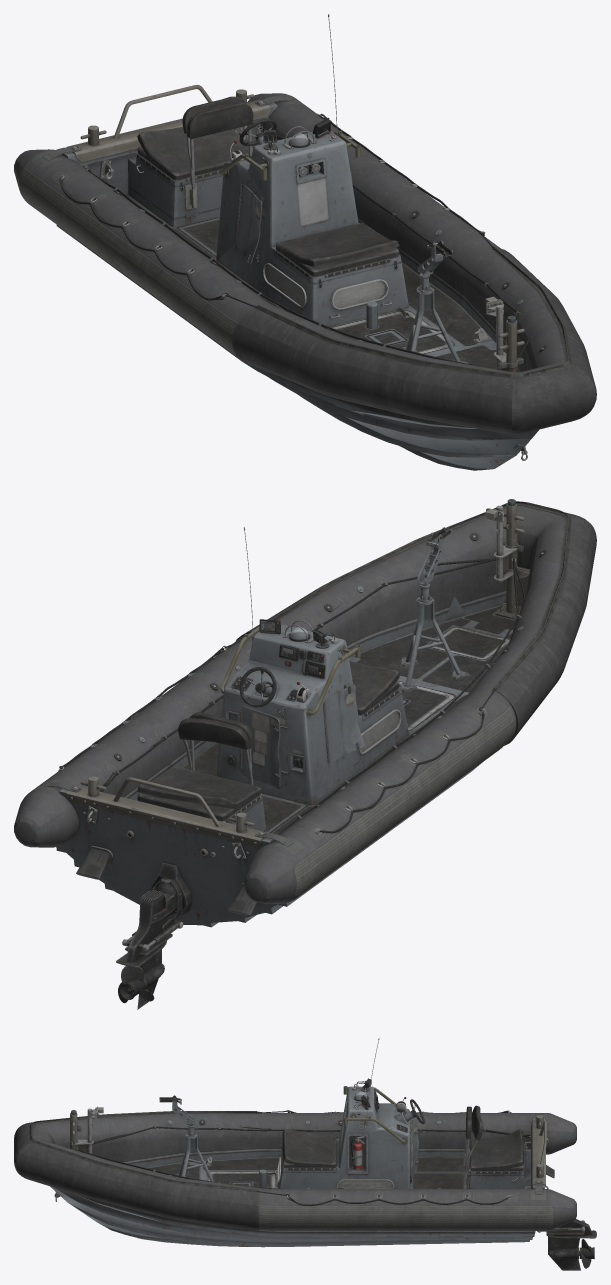
The model's file is VEH_RHIB.glb.
3 renders of one model, top to bottom at view 1: azimuth 30°, elevation 25°; view 2: azimuth 150°, elevation 25°; view 3: azimuth 270°, elevation 25°, orthographic. The views are drawn at different scales.
Visible parts, largest first — view 1: ob_veh_boat_rhib_base_s3; view 2: ob_veh_boat_rhib_base_s3; view 3: ob_veh_boat_rhib_base_s3.
Part boxes in pixels (x1=…): ob_veh_boat_rhib_base_s3: x1=14, y1=14, x2=596, y2=470; ob_veh_boat_rhib_base_s3: x1=14, y1=499, x2=596, y2=1009; ob_veh_boat_rhib_base_s3: x1=14, y1=1038, x2=596, y2=1270.
Size of the model in its own units: 3.06 by 3.71 by 7.96.
Materials: 5 (4 with a texture image).
